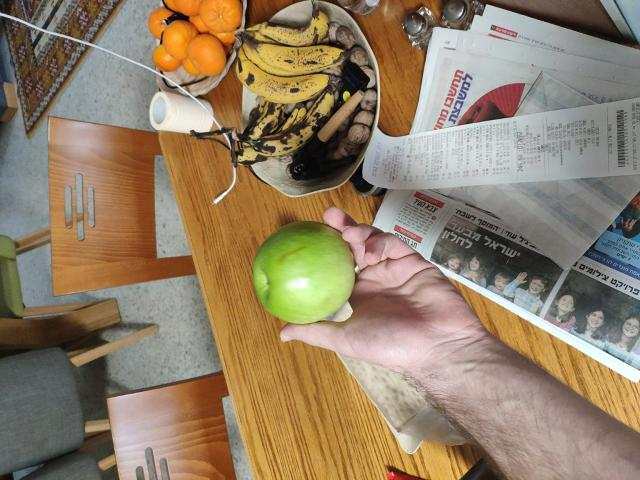apple: (248, 220, 360, 322)
